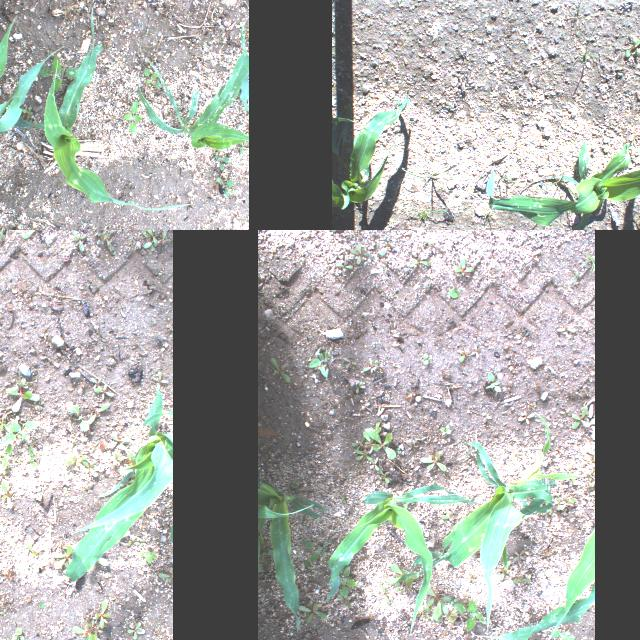crop: (0, 7, 192, 210), (430, 413, 580, 631), (326, 485, 476, 637), (63, 383, 173, 582), (492, 115, 640, 226), (135, 17, 249, 148), (475, 526, 594, 640), (258, 482, 326, 630), (334, 101, 410, 213), (0, 15, 62, 134)
weed: (38, 56, 82, 92), (5, 382, 40, 413), (363, 426, 393, 460), (1, 421, 41, 445), (453, 602, 485, 632), (386, 564, 419, 592), (426, 588, 450, 624), (68, 402, 92, 433), (306, 348, 330, 378), (301, 540, 329, 564), (296, 602, 326, 624), (124, 100, 142, 134), (418, 452, 447, 472), (338, 565, 356, 597), (454, 250, 476, 276), (96, 230, 117, 257), (270, 356, 290, 384), (72, 619, 98, 640), (570, 404, 590, 430), (349, 244, 371, 266), (94, 600, 110, 630), (86, 404, 110, 424), (259, 540, 271, 574), (215, 178, 235, 198), (26, 444, 40, 472), (66, 454, 94, 468), (141, 230, 158, 253), (625, 33, 640, 58), (144, 67, 160, 89), (556, 322, 578, 338), (0, 626, 25, 640), (126, 621, 144, 639), (138, 549, 158, 565), (110, 434, 130, 450), (516, 408, 536, 424), (556, 494, 576, 510), (0, 444, 12, 470), (72, 230, 86, 252), (408, 256, 430, 270), (95, 384, 114, 400), (523, 248, 541, 264), (363, 356, 379, 374), (1, 484, 12, 510), (486, 373, 500, 393), (214, 154, 230, 170), (421, 598, 432, 620), (353, 451, 373, 463), (0, 411, 12, 430), (380, 240, 394, 256), (328, 248, 344, 262), (352, 379, 366, 395), (511, 548, 527, 562), (153, 371, 170, 384), (585, 250, 595, 272), (555, 630, 577, 640), (381, 585, 391, 607), (472, 342, 484, 360), (500, 561, 510, 581), (0, 230, 18, 241), (351, 436, 365, 450), (336, 592, 350, 606), (446, 288, 462, 300), (333, 261, 352, 271), (344, 356, 356, 370), (466, 569, 478, 583), (22, 230, 42, 238), (435, 514, 455, 522), (456, 351, 468, 364), (380, 257, 388, 275), (587, 446, 595, 464), (588, 467, 594, 491), (158, 572, 172, 582), (421, 353, 431, 367), (572, 272, 580, 288), (514, 576, 530, 584), (92, 378, 102, 390), (423, 237, 435, 247), (440, 425, 450, 437), (446, 612, 456, 624), (368, 458, 378, 470), (379, 470, 389, 482), (300, 560, 314, 568), (392, 232, 410, 238), (526, 401, 536, 411), (290, 477, 300, 487), (556, 496, 564, 508), (560, 409, 570, 418), (392, 320, 398, 334), (449, 598, 458, 606), (376, 369, 382, 379), (396, 447, 402, 455), (390, 294, 398, 300), (372, 339, 376, 349), (514, 454, 522, 458)
